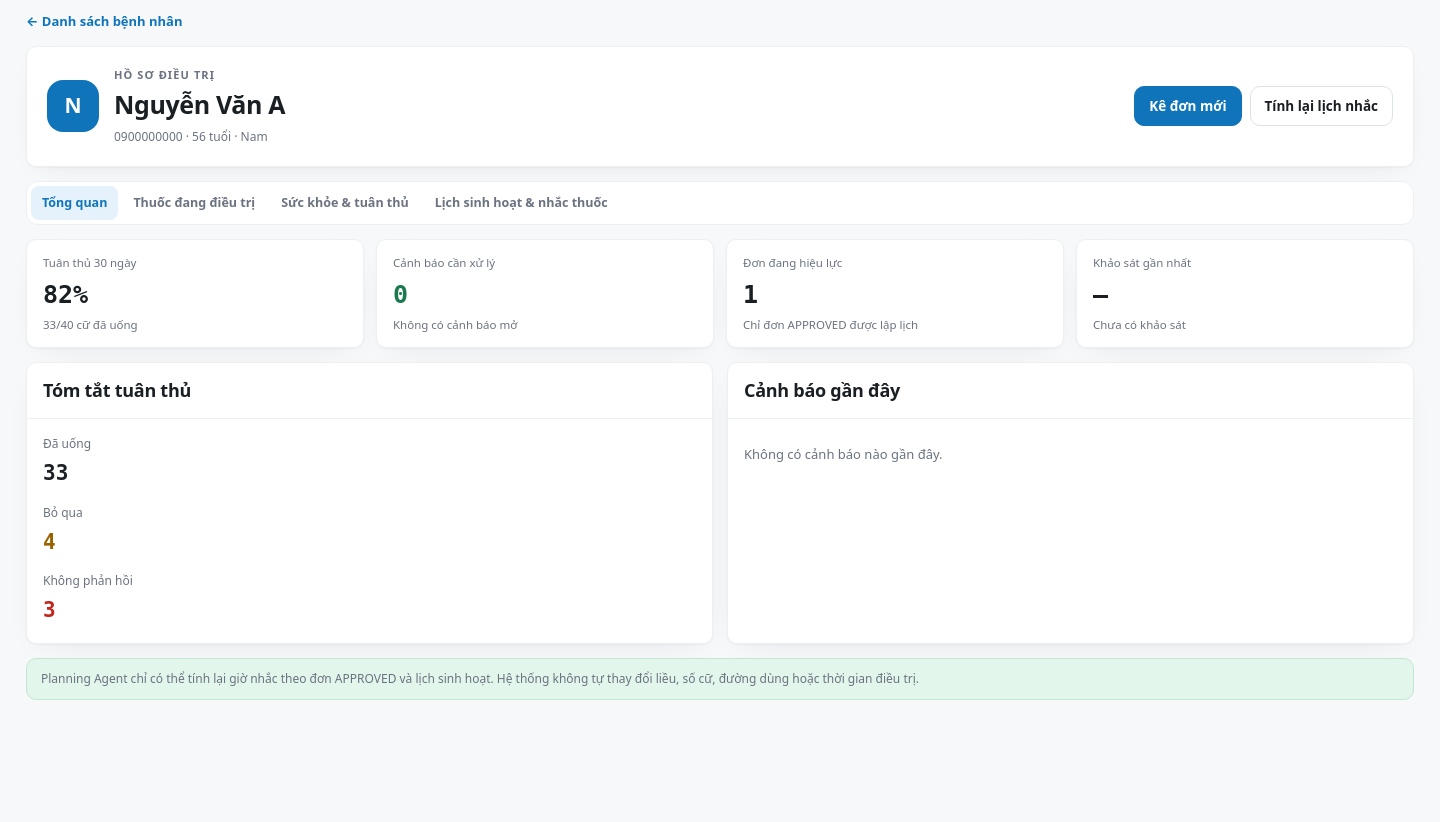
Test: PatientDetailPage › shows read-only medication instructions with no dose/frequency/route edit controls
Expected: the heading "Nguyễn Văn A" is shown, [114, 86, 285, 124]
Click the tab "Thuốc đang điều trị" at (194, 203), box [122, 186, 266, 220]
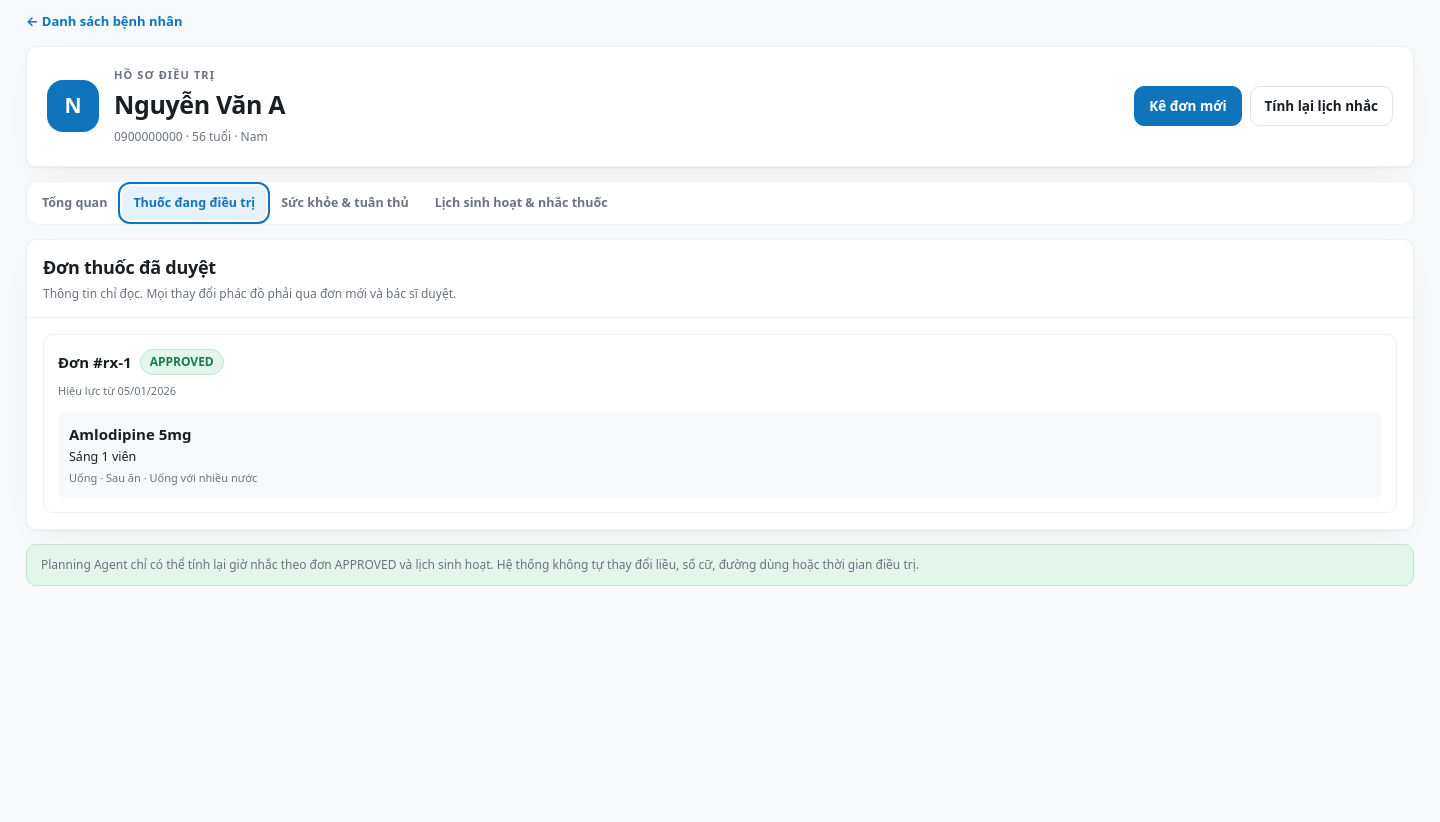
Now the text "Amlodipine 5mg" is shown, box [69, 424, 192, 444]
Now the text "Thông tin chỉ đọc" is shown, box [43, 285, 456, 302]
Now the text "Sáng 1 viên" is shown, box [69, 448, 136, 465]
